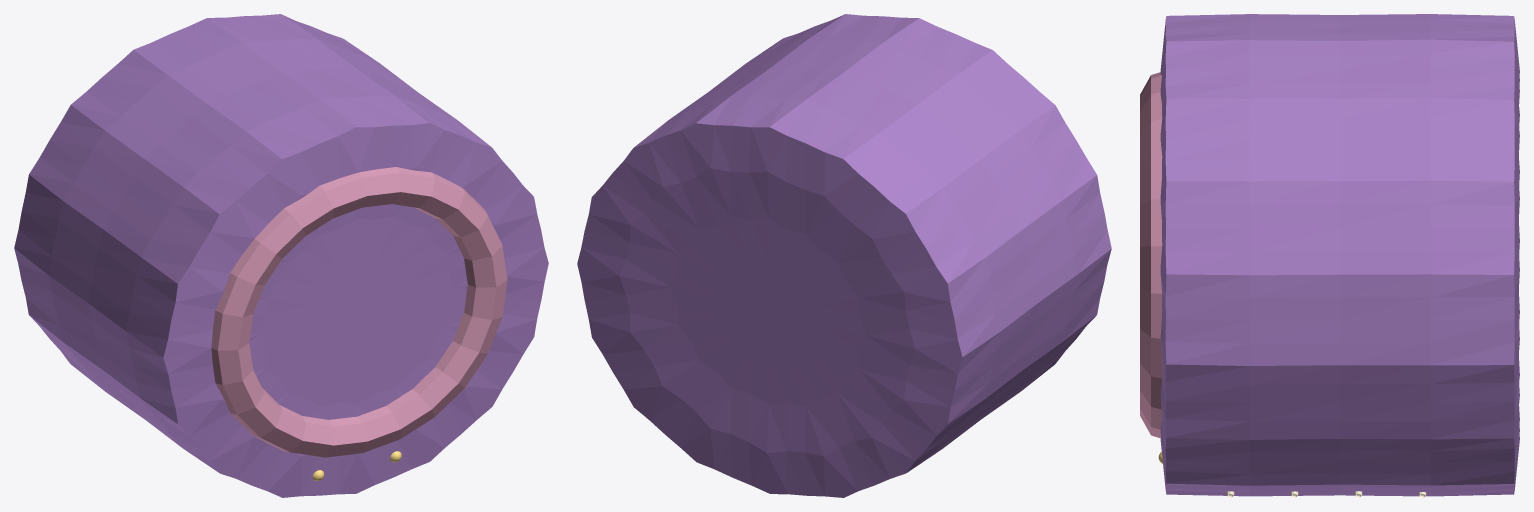
File: falda.glb
3 views of the same model, side by side, from view 1: azimuth 30°, elevation 25°; view 2: azimuth 150°, elevation 25°; view 3: azimuth 270°, elevation 25° (orthographic). The views are drawn at different scales.
Parts seen in each view (by area): view 1: falda_00, falda_01; view 2: falda_00; view 3: falda_00, falda_01.
Part boxes in pixels (box(x1,y1,x2,y2)): falda_00: box(14, 14, 548, 497); falda_01: box(211, 167, 507, 457); falda_00: box(577, 14, 1111, 497); falda_00: box(1160, 14, 1519, 496); falda_01: box(1140, 72, 1162, 438).
Bounding box in the file's own units: 0.8479 × 0.7708 × 0.6162.
